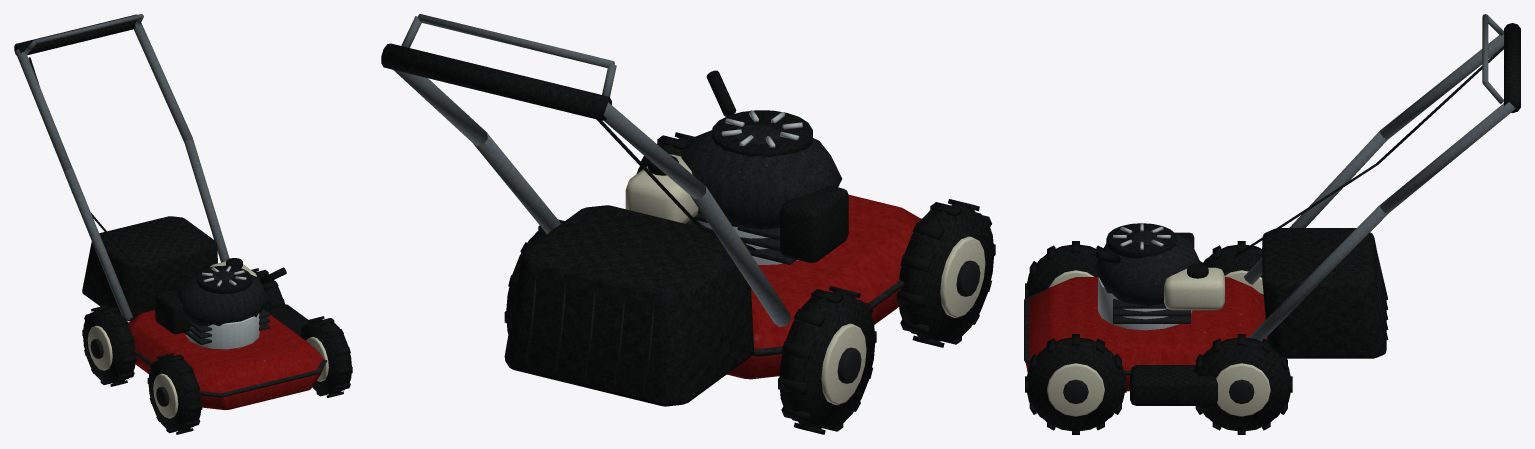
Rendered from Mower_Push_21in.gltf.
3 views of the same model, side by side, from view 1: azimuth 30°, elevation 25°; view 2: azimuth 150°, elevation 25°; view 3: azimuth 270°, elevation 25° (orthographic). The views are drawn at different scales.
Visible parts, largest first — view 1: Mower_Push_21in__Body, Mower_Push_21in__Wheel_Front_L, Mower_Push_21in__Wheel_Rear_L, Mower_Push_21in__Wheel_Front_R, Mower_Push_21in__Wheel_Rear_R; view 2: Mower_Push_21in__Body, Mower_Push_21in__Wheel_Rear_L, Mower_Push_21in__Wheel_Front_L, Mower_Push_21in__Wheel_Rear_R, Mower_Push_21in__Wheel_Front_R; view 3: Mower_Push_21in__Body, Mower_Push_21in__Wheel_Front_R, Mower_Push_21in__Wheel_Rear_R, Mower_Push_21in__Wheel_Front_L, Mower_Push_21in__Wheel_Rear_L.
Part boxes in pixels (box(x1,y1,x2,y2)): Mower_Push_21in__Body: box(14, 14, 327, 409); Mower_Push_21in__Wheel_Front_L: box(147, 353, 202, 434); Mower_Push_21in__Wheel_Rear_L: box(82, 305, 136, 386); Mower_Push_21in__Wheel_Front_R: box(300, 316, 352, 397); Mower_Push_21in__Wheel_Rear_R: box(251, 268, 285, 313); Mower_Push_21in__Body: box(381, 14, 921, 406); Mower_Push_21in__Wheel_Rear_L: box(778, 286, 876, 434); Mower_Push_21in__Wheel_Front_L: box(896, 199, 995, 347); Mower_Push_21in__Wheel_Rear_R: box(504, 219, 564, 333); Mower_Push_21in__Wheel_Front_R: box(636, 132, 694, 173); Mower_Push_21in__Body: box(1024, 14, 1520, 405); Mower_Push_21in__Wheel_Front_R: box(1025, 334, 1126, 434); Mower_Push_21in__Wheel_Rear_R: box(1194, 334, 1292, 434); Mower_Push_21in__Wheel_Front_L: box(1025, 241, 1103, 298); Mower_Push_21in__Wheel_Rear_L: box(1200, 241, 1263, 294).
Size of the model in its own units: 0.7865 by 1.1 by 1.47.
Materials: 1 (1 with a texture image).
